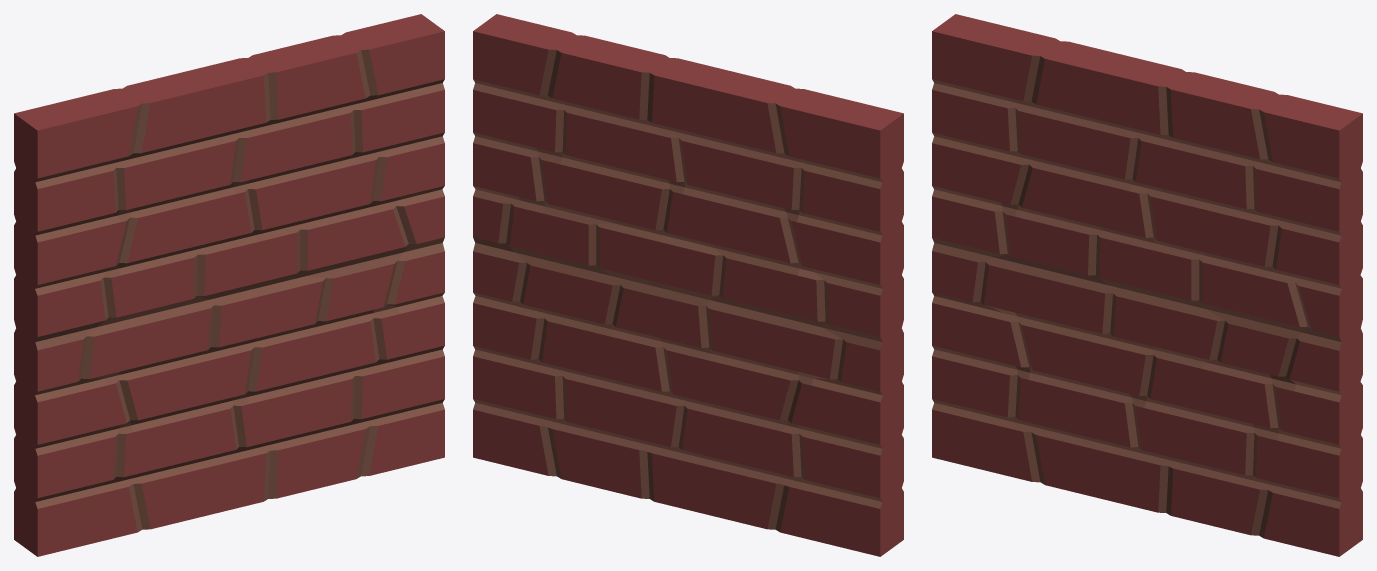
The model's file is Brick Wall.fbx.
The picture shows the model from 3 angles, left to right: view 1: azimuth 30°, elevation 25°; view 2: azimuth 150°, elevation 25°; view 3: azimuth 330°, elevation 25°; orthographic projection.
Visible parts, largest first — view 1: Brick Wall; view 2: Brick Wall; view 3: Brick Wall.
Boxes of the visible parts, x1=… form: Brick Wall: x1=14, y1=14, x2=444, y2=556; Brick Wall: x1=473, y1=14, x2=903, y2=556; Brick Wall: x1=932, y1=14, x2=1362, y2=556.
Size of the model in its own units: 200 by 200 by 20.
